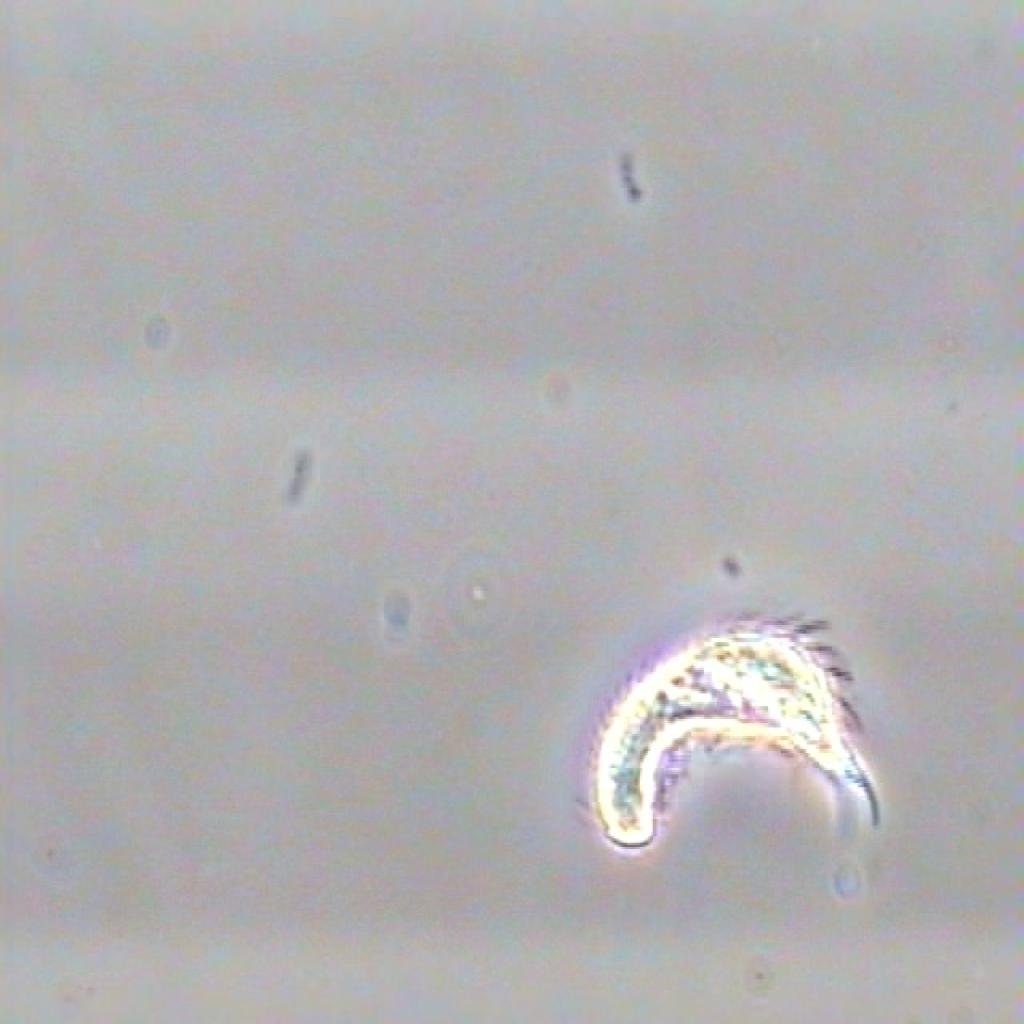Chaetonotus: (570, 566, 880, 900)
